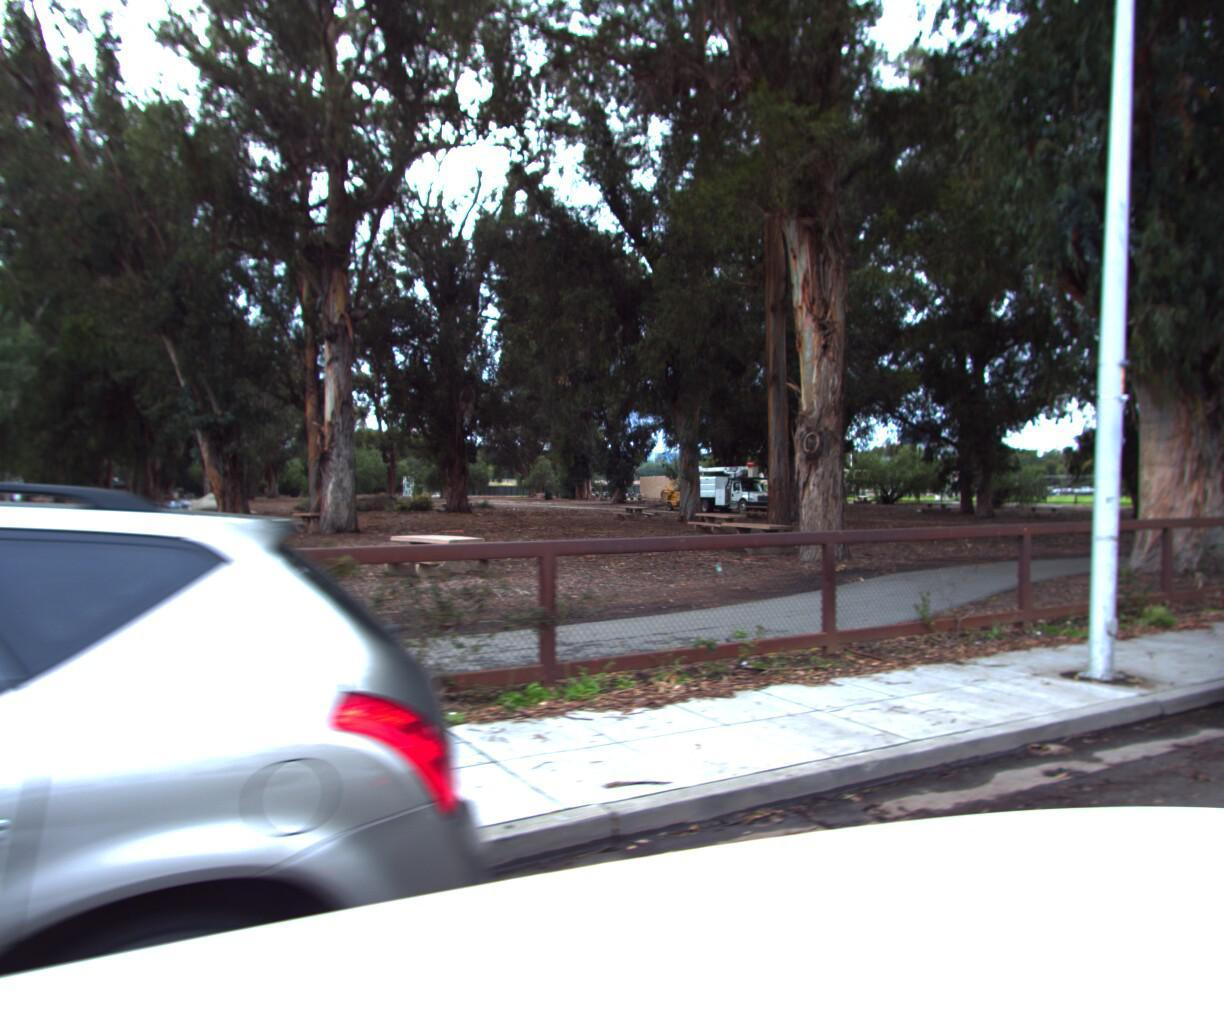bicycle: (67, 513, 131, 609), (0, 508, 8, 590)
car: (1210, 478, 1224, 759)
other_vehicle: (680, 456, 784, 509), (652, 478, 707, 509)
